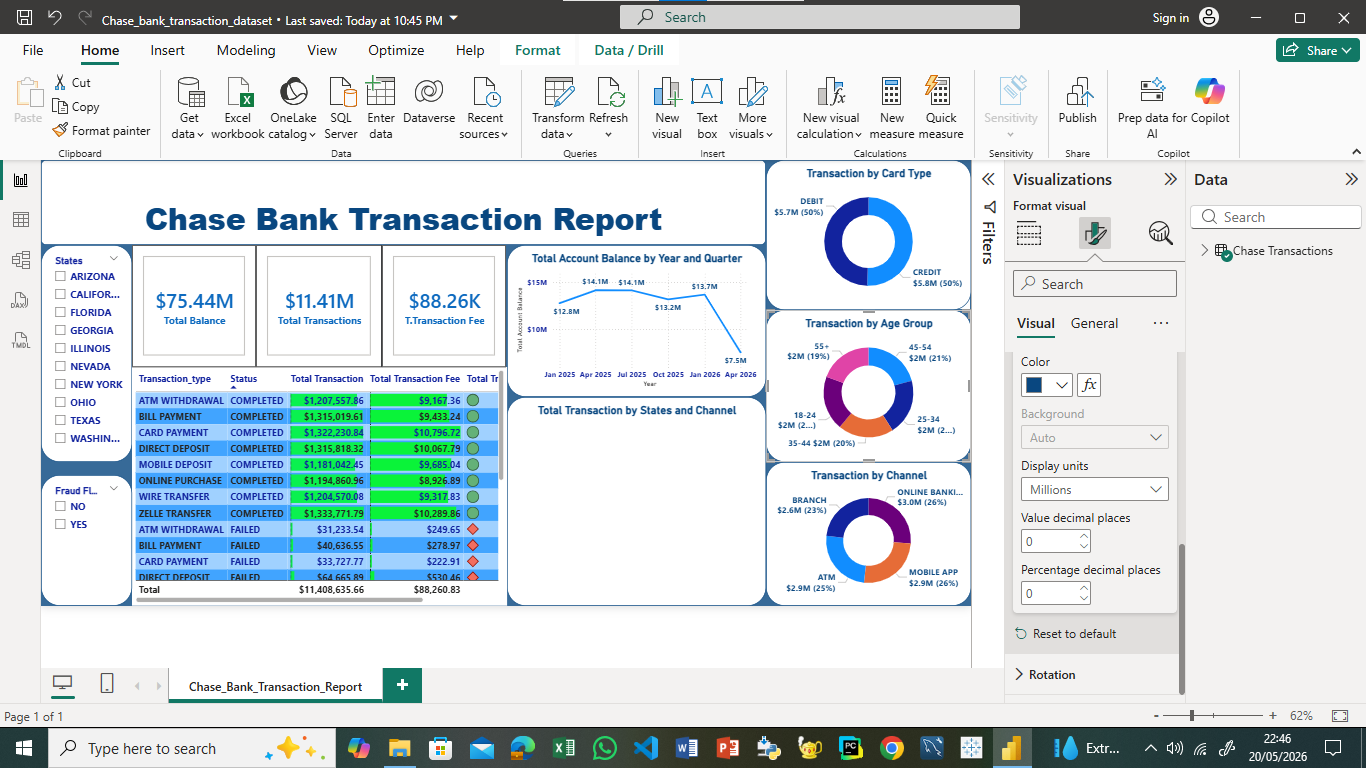

This screenshot's page, from the dashboard's own definition file:
{"tool":"powerbi","page":{"name":"Chase_Bank_Transaction_Report","canvas":[1500,720],"ordinal":0},"visuals":[{"type":"textbox","box":[0,0,1169.4,137.1],"z":0},{"type":"donutChart","title":"Transaction by Channel","fields":{"Category":["Chase Transactions.Channel"],"Y":["Sum(Chase Transactions.Amount_USD)"]},"box":[1169.4,487.1,330.6,232.3],"z":1000},{"type":"donutChart","title":"Transaction by Age Group","fields":{"Y":["Sum(Chase Transactions.Amount_USD)"],"Category":["Chase Transactions.Customer Age Group"]},"box":[1169.4,241.9,330.6,245.2],"z":2000},{"type":"donutChart","title":"Transaction by Card Type","fields":{"Y":["Sum(Chase Transactions.Amount_USD)"],"Category":["Chase Transactions.Card Type"]},"box":[1169.4,0,330.6,241.9],"z":3000},{"type":"lineChart","fields":{"Category":["Chase Transactions.Transaction Date.Variation.Date Hierarchy.Year","Chase Transactions.Transaction Date.Variation.Date Hierarchy.Quarter","Chase Transactions.Transaction Date.Variation.Date Hierarchy.Month","Chase Transactions.Transaction Date.Variation.Date Hierarchy.Day"],"Y":["Sum(Chase Transactions.Account Balance USD)"]},"box":[751.6,137.1,417.7,245.2],"z":4000},{"type":"map","fields":{"Category":["Chase Transactions.State"],"Series":["Chase Transactions.Channel"],"Size":["Sum(Chase Transactions.Amount_USD)"]},"box":[751.6,382.3,417.7,337.1],"z":5000},{"type":"slicer","fields":{"Values":["Chase Transactions.State"]},"box":[0,137.1,146.8,350],"z":6000},{"type":"tableEx","fields":{"Values":["Chase Transactions.Transaction_type","Chase Transactions.Status","Sum(Chase Transactions.Amount_USD)","Sum(Chase Transactions.Transaction Fee USD)","Sum(Chase Transactions.Transaction Percentage)"]},"box":[146.8,333.9,604.8,385.5],"z":7000},{"type":"cardVisual","fields":{"Data":["Sum(Chase Transactions.Account Balance USD)"]},"box":[146.8,137.1,200,196.8],"z":8000},{"type":"cardVisual","fields":{"Data":["Sum(Chase Transactions.Amount_USD)"]},"box":[346.8,137.1,203.2,196.8],"z":9000},{"type":"cardVisual","fields":{"Data":["Sum(Chase Transactions.Transaction Fee USD)"]},"box":[550,137.1,200,196.8],"z":10000},{"type":"slicer","fields":{"Values":["Chase Transactions.Fraud Flag"]},"box":[0,508.1,146.8,211.3],"z":11000}]}

Visuals, with their boxes on the page's 1500x720 design canvas (x1, y1, x2, y2). These are canvas units, not pixel positions in the 1366x768 screenshot, which may show the page scaled, cropped or inside an application window:
textbox: 0/0/1169/137
"Transaction by Channel" donutChart: 1169/487/1500/719
"Transaction by Age Group" donutChart: 1169/242/1500/487
"Transaction by Card Type" donutChart: 1169/0/1500/242
lineChart - Chase Transactions.Transaction Date.Variation.Date Hierarchy.Year x Chase Transactions.Transaction Date.Variation.Date Hierarchy.Quarter: 752/137/1169/382
map - Chase Transactions.State x Chase Transactions.Channel: 752/382/1169/719
slicer - Chase Transactions.State: 0/137/147/487
tableEx - Chase Transactions.Transaction_type x Chase Transactions.Status: 147/334/752/719
cardVisual - Sum(Chase Transactions.Account Balance USD): 147/137/347/334
cardVisual - Sum(Chase Transactions.Amount_USD): 347/137/550/334
cardVisual - Sum(Chase Transactions.Transaction Fee USD): 550/137/750/334
slicer - Chase Transactions.Fraud Flag: 0/508/147/719
